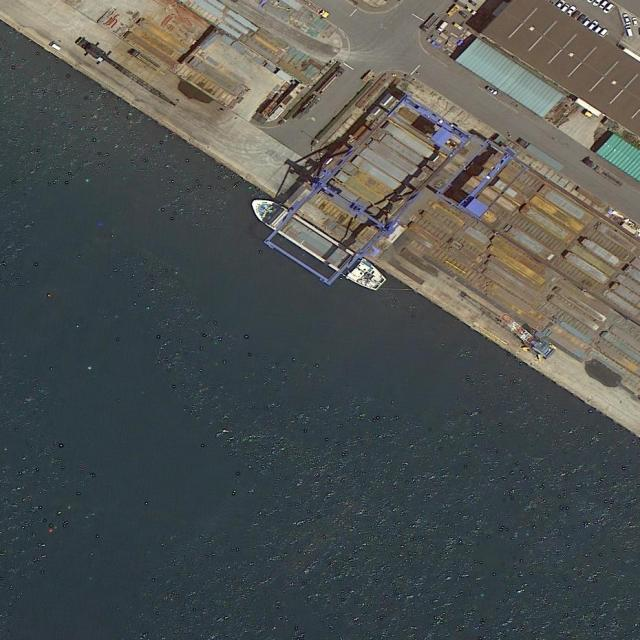Container Ship: (244, 189, 390, 298)
